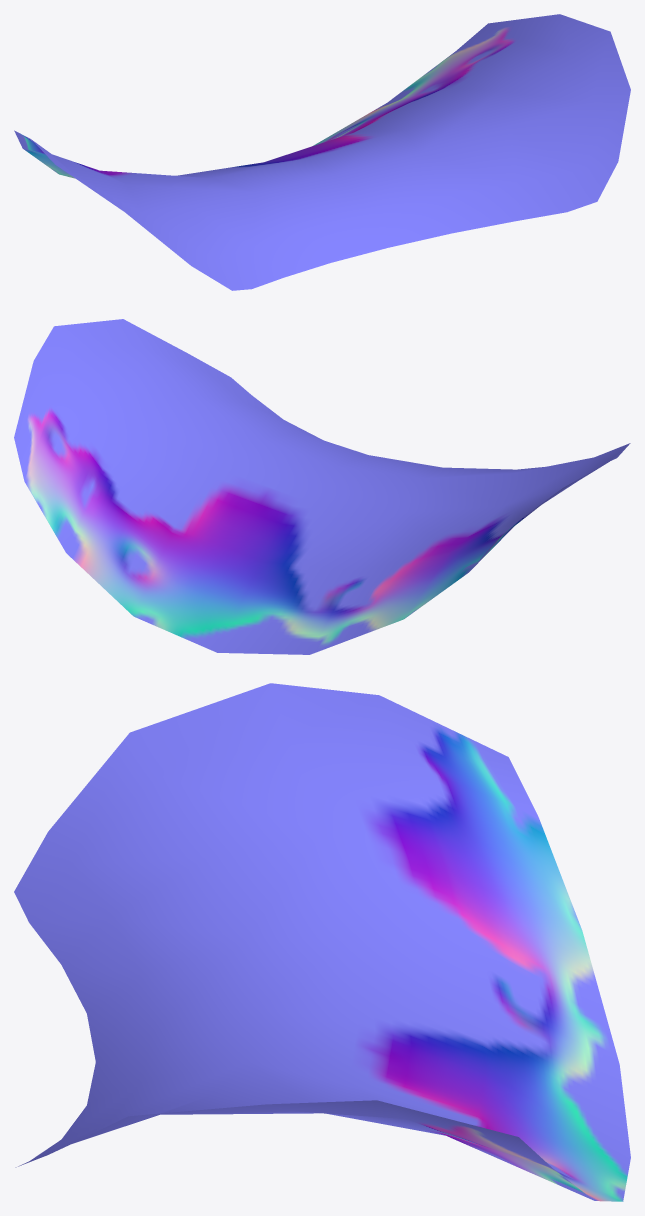
The model's file is p_mesh_trashbot_flowspray_splash02_pose1.fbx.
3 renders of one model, top to bottom at view 1: azimuth 30°, elevation 25°; view 2: azimuth 150°, elevation 25°; view 3: azimuth 270°, elevation 25°, orthographic. The views are drawn at different scales.
Parts seen in each view (by area): view 1: splash02_pose1; view 2: splash02_pose1; view 3: splash02_pose1.
Part boxes in pixels (left/top/right/bottom): splash02_pose1: left=14, top=14, right=630, bottom=290; splash02_pose1: left=14, top=319, right=630, bottom=654; splash02_pose1: left=14, top=683, right=630, bottom=1201.
Bounding box in the file's own units: 15.62 × 4.63 × 9.71.
